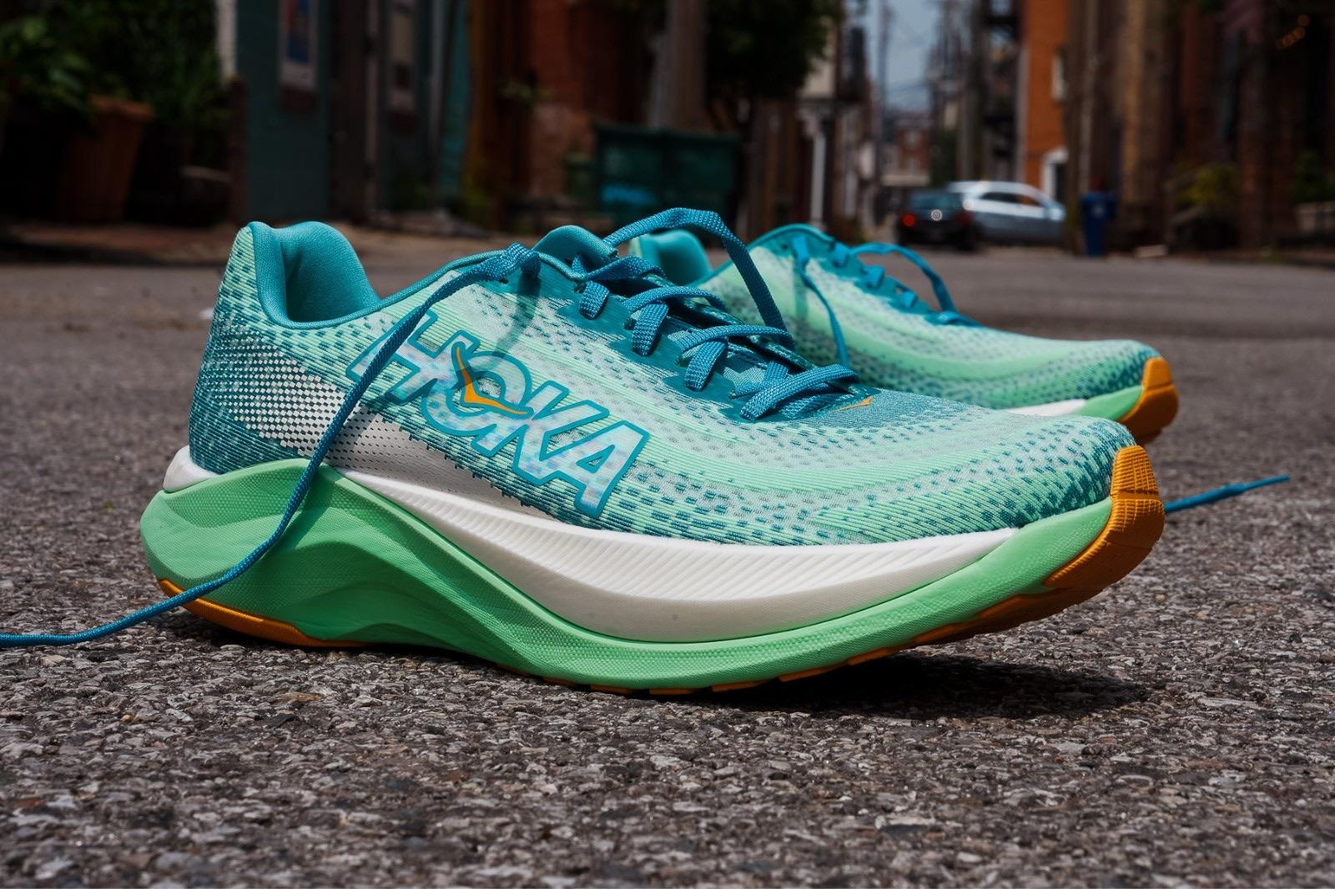hoka logo: (287, 307, 745, 537), (834, 395, 874, 412)
